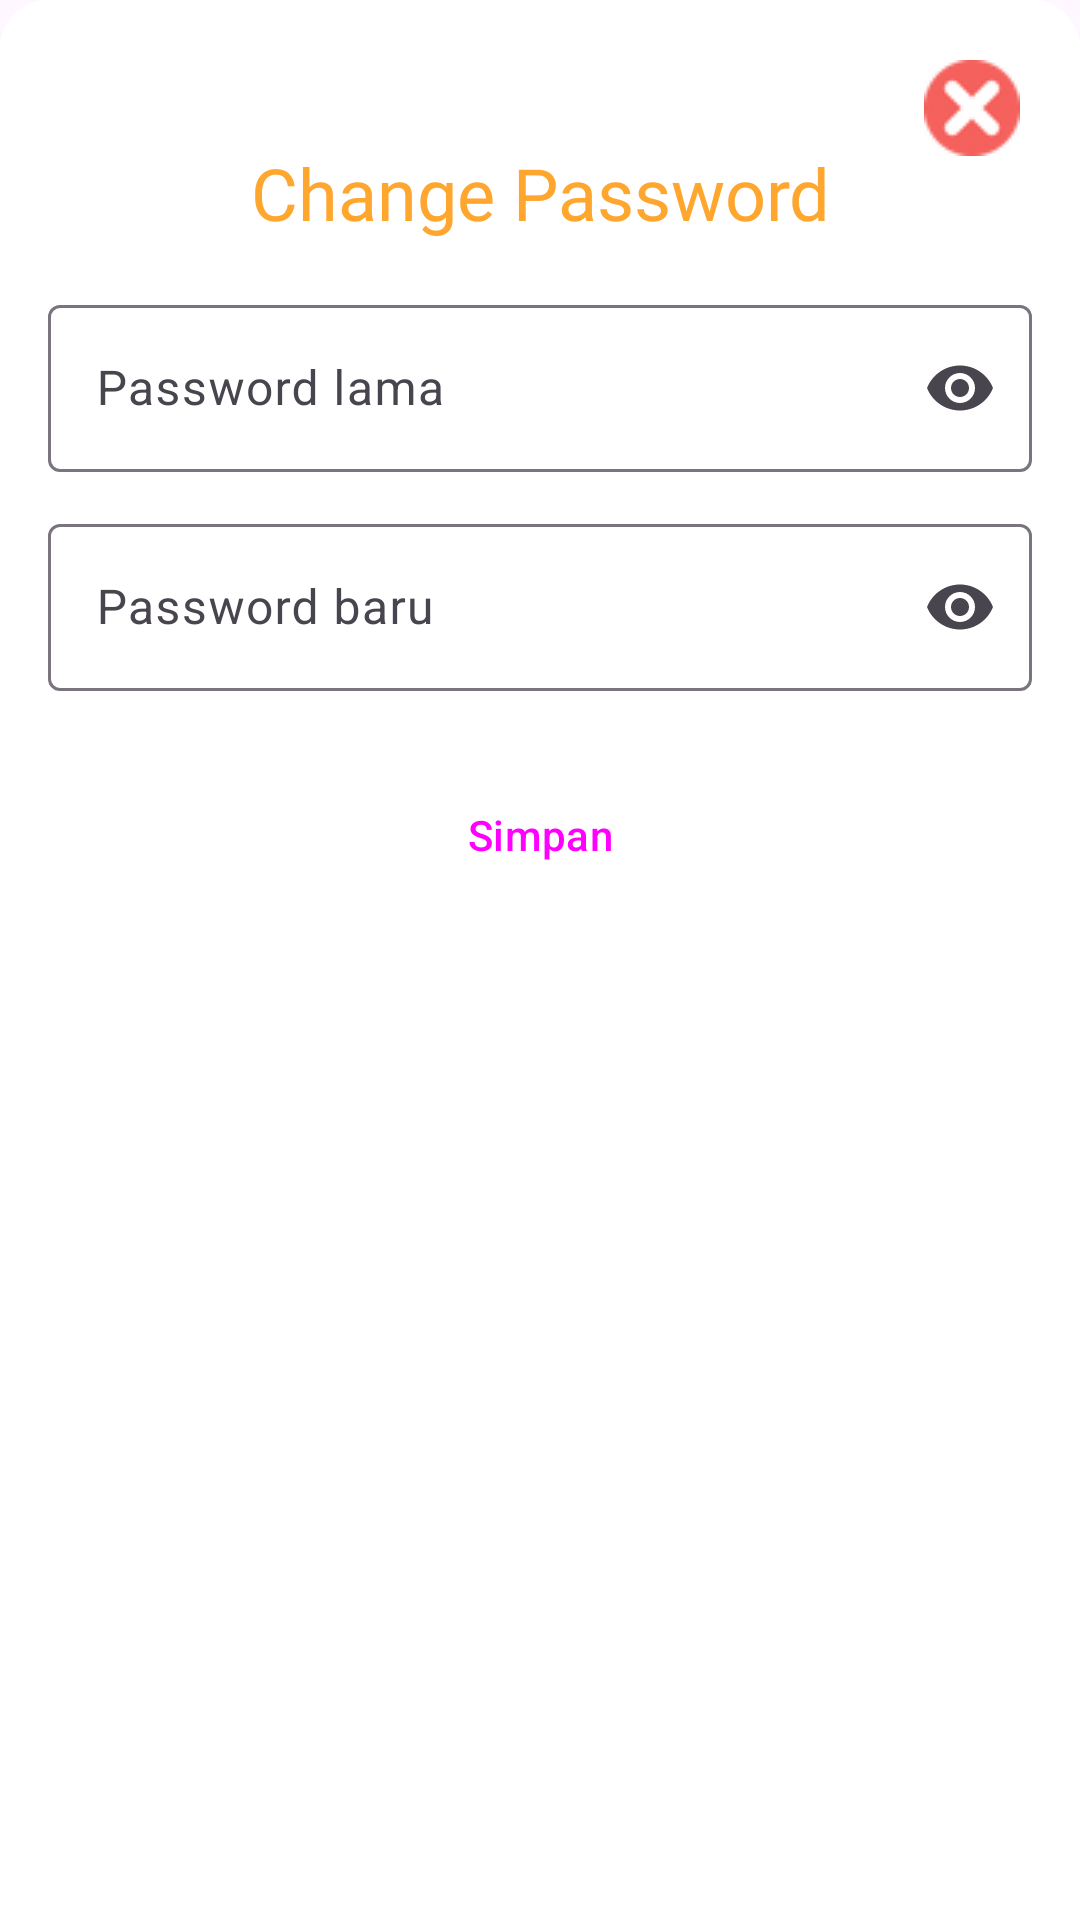

Screen size 1080px x 1920px. Icon name, then its center in pixels as (x=x, y=y):
close: (x=972, y=108)
